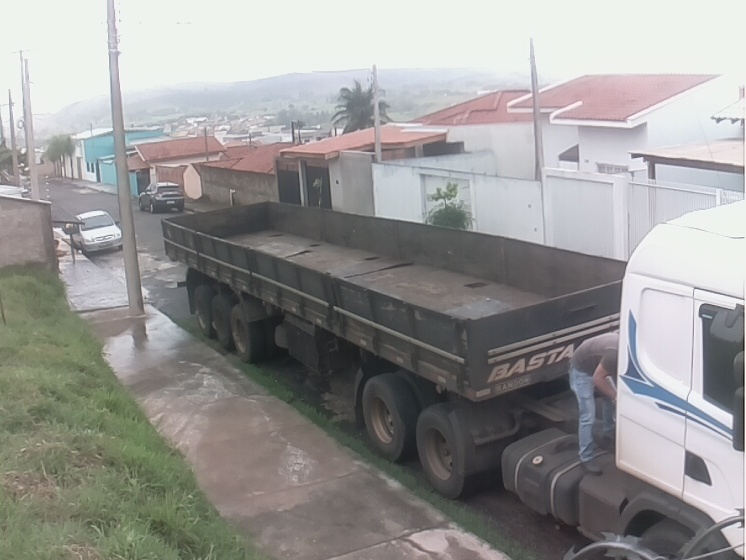person: (568, 332, 623, 473)
